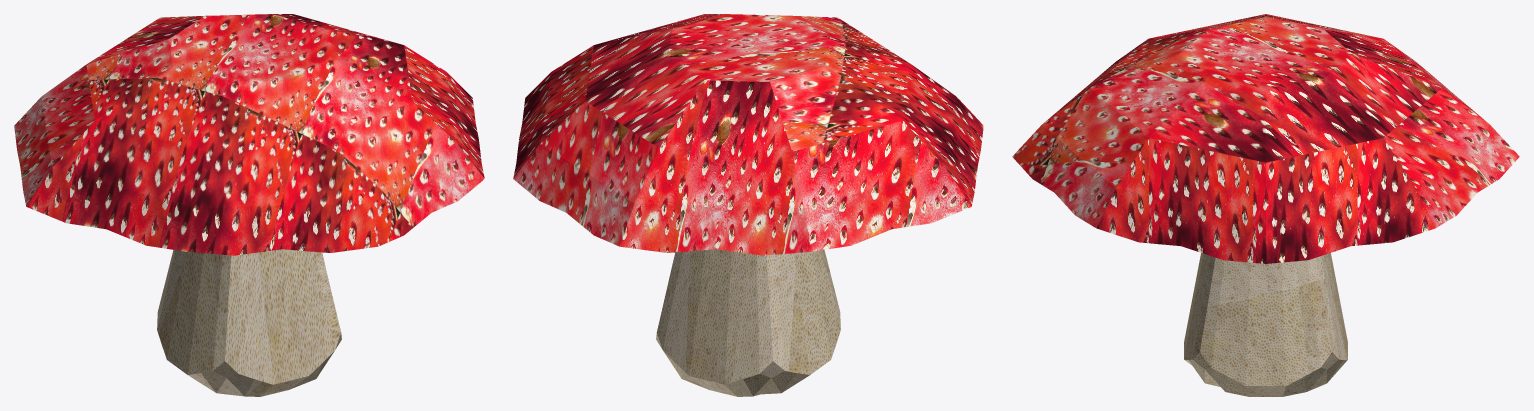
The model's file is ToadstoolTextured.fbx.
3 views of the same model, side by side, from view 1: azimuth 30°, elevation 25°; view 2: azimuth 150°, elevation 25°; view 3: azimuth 270°, elevation 25° (orthographic).
Visible parts, largest first — view 1: Cube.001; view 2: Cube.001; view 3: Cube.001.
Boxes of the visible parts, box(x1,y1,x2,y2) form: Cube.001: box(14, 14, 484, 396); Cube.001: box(513, 14, 983, 396); Cube.001: box(1012, 14, 1519, 396).
Bounding box in the file's own units: 775 × 542 × 775.
2 materials, 2 textured.
